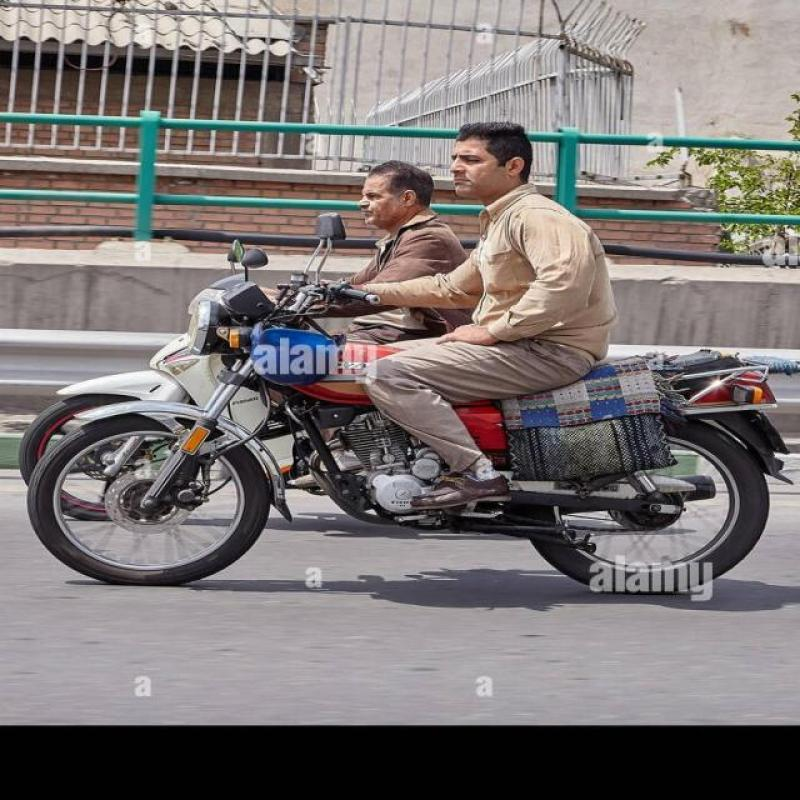nohelmet: (437, 113, 553, 203), (345, 150, 440, 231)
